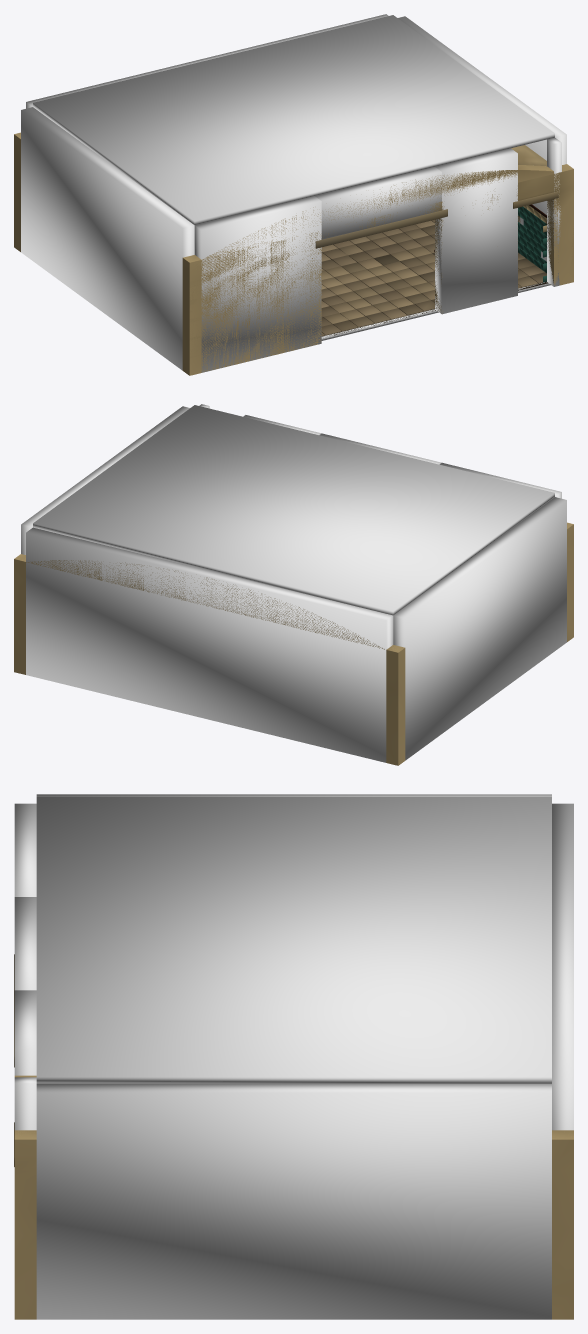
File: consigna_sala.glb
3 renders of one model, top to bottom at view 1: azimuth 30°, elevation 25°; view 2: azimuth 150°, elevation 25°; view 3: azimuth 270°, elevation 25°, orthographic. The views are drawn at different scales.
Parts seen in each view (by area): view 1: techo-colcaja, izquierda-colcaja, muros, frente_izq-colcaja, frente_medio-colcaja, dintel-colcaja, suelo_0, suelo_1, suelo_2, derecha-colcaja, azulejos_derecha, frente_der-colcaja (+4 smaller); view 2: techo-colcaja, fondo-colcaja, izquierda-colcaja, muros, derecha-colcaja; view 3: techo-colcaja, derecha-colcaja, muros, fondo-colcaja, dintel-colcaja, frente_izq-colcaja, frente_medio-colcaja, izquierda-colcaja, frente_der-colcaja.
Boxes of the visible parts, x1,y1,x2,y2 form: techo-colcaja: [33, 15, 554, 225]; izquierda-colcaja: [21, 107, 194, 370]; muros: [14, 132, 573, 375]; frente_izq-colcaja: [194, 196, 321, 372]; frente_medio-colcaja: [435, 148, 517, 314]; dintel-colcaja: [315, 167, 441, 239]; suelo_0: [321, 258, 548, 336]; suelo_1: [321, 252, 525, 307]; suelo_2: [321, 225, 434, 280]; derecha-colcaja: [398, 16, 566, 261]; azulejos_derecha: [518, 205, 546, 273]; frente_der-colcaja: [547, 137, 561, 286]; techo-colcaja: [33, 405, 554, 615]; fondo-colcaja: [26, 527, 393, 762]; izquierda-colcaja: [393, 497, 566, 760]; muros: [14, 522, 573, 765]; derecha-colcaja: [21, 406, 189, 554]; techo-colcaja: [36, 797, 551, 1083]; derecha-colcaja: [36, 1083, 551, 1319]; muros: [14, 954, 573, 1319]; fondo-colcaja: [552, 803, 573, 1130]; dintel-colcaja: [14, 897, 36, 990]; frente_izq-colcaja: [14, 803, 36, 896]; frente_medio-colcaja: [14, 990, 36, 1075]; izquierda-colcaja: [36, 794, 551, 796]; frente_der-colcaja: [14, 1077, 36, 1130].
Bounding box in the file's own units: 9.6 × 3.6 × 7.61.
